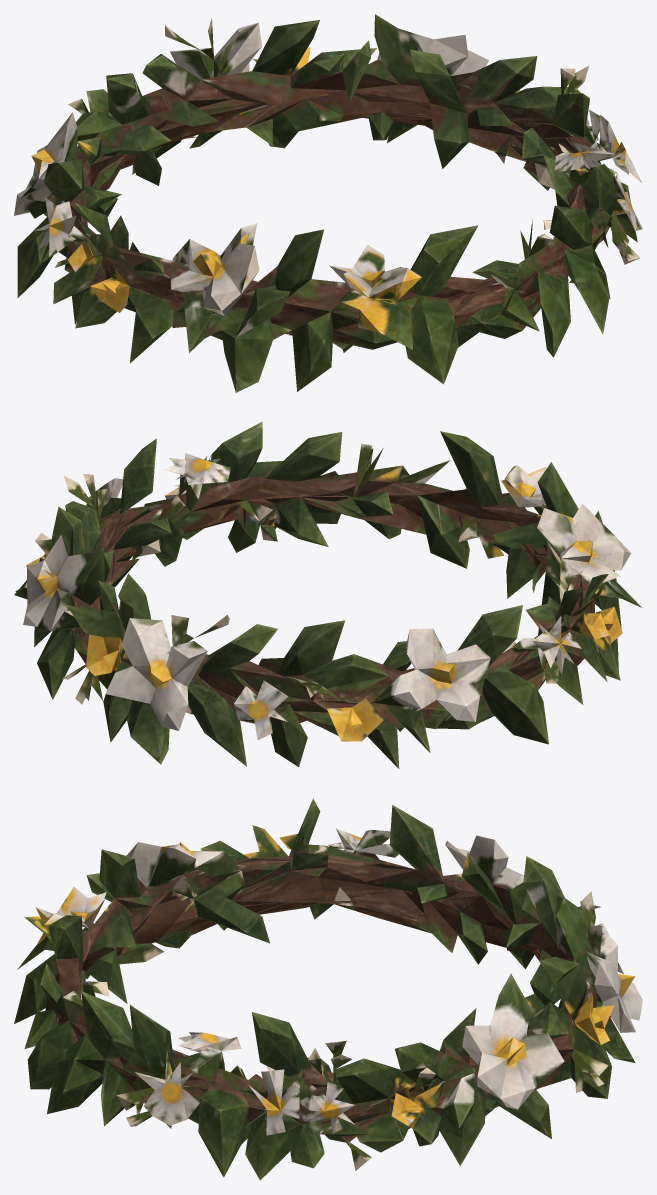
The model's file is wedding-crown.glb.
The picture shows the model from 3 angles, top to bottom: view 1: azimuth 30°, elevation 25°; view 2: azimuth 150°, elevation 25°; view 3: azimuth 270°, elevation 25°; orthographic projection. The views are drawn at different scales.
Visible parts, largest first — view 1: output_unwrapped; view 2: output_unwrapped; view 3: output_unwrapped.
Part boxes in pixels (x1,y1,x2,y2): output_unwrapped: (14, 14, 642, 392); output_unwrapped: (14, 421, 641, 768); output_unwrapped: (14, 798, 642, 1180).
Size of the model in its own units: 1.14 by 0.3 by 1.12.
Materials: 1 (1 with a texture image).
